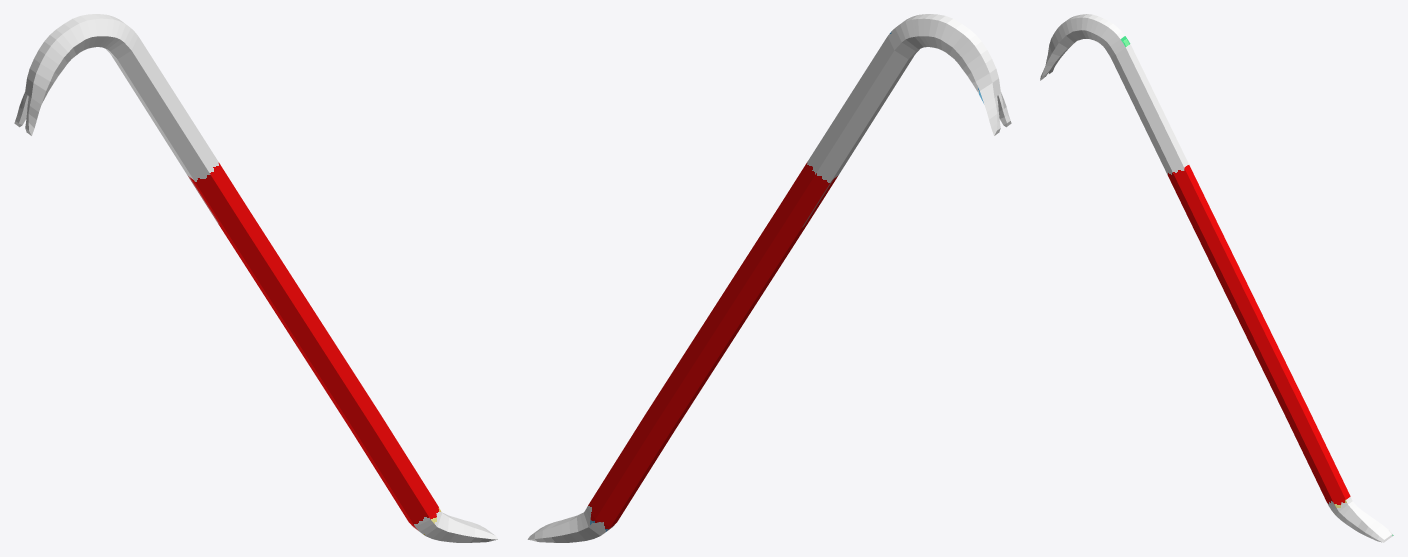
File: try.gltf
3 views of the same model, side by side, from view 1: azimuth 30°, elevation 25°; view 2: azimuth 150°, elevation 25°; view 3: azimuth 330°, elevation 25° (orthographic). The views are drawn at different scales.
Parts seen in each view (by area): view 1: Plane; view 2: Plane; view 3: Plane.
Part boxes in pixels (<box>): Plane: <box>14,14,498,542</box>; Plane: <box>527,14,1011,542</box>; Plane: <box>1040,14,1393,542</box>.
Size of the model in its own units: 7.7 by 9.67 by 0.5024.
Materials: 1 (1 with a texture image).
